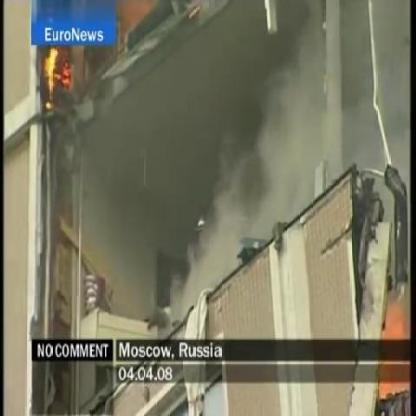fire: (41, 45, 73, 105)
